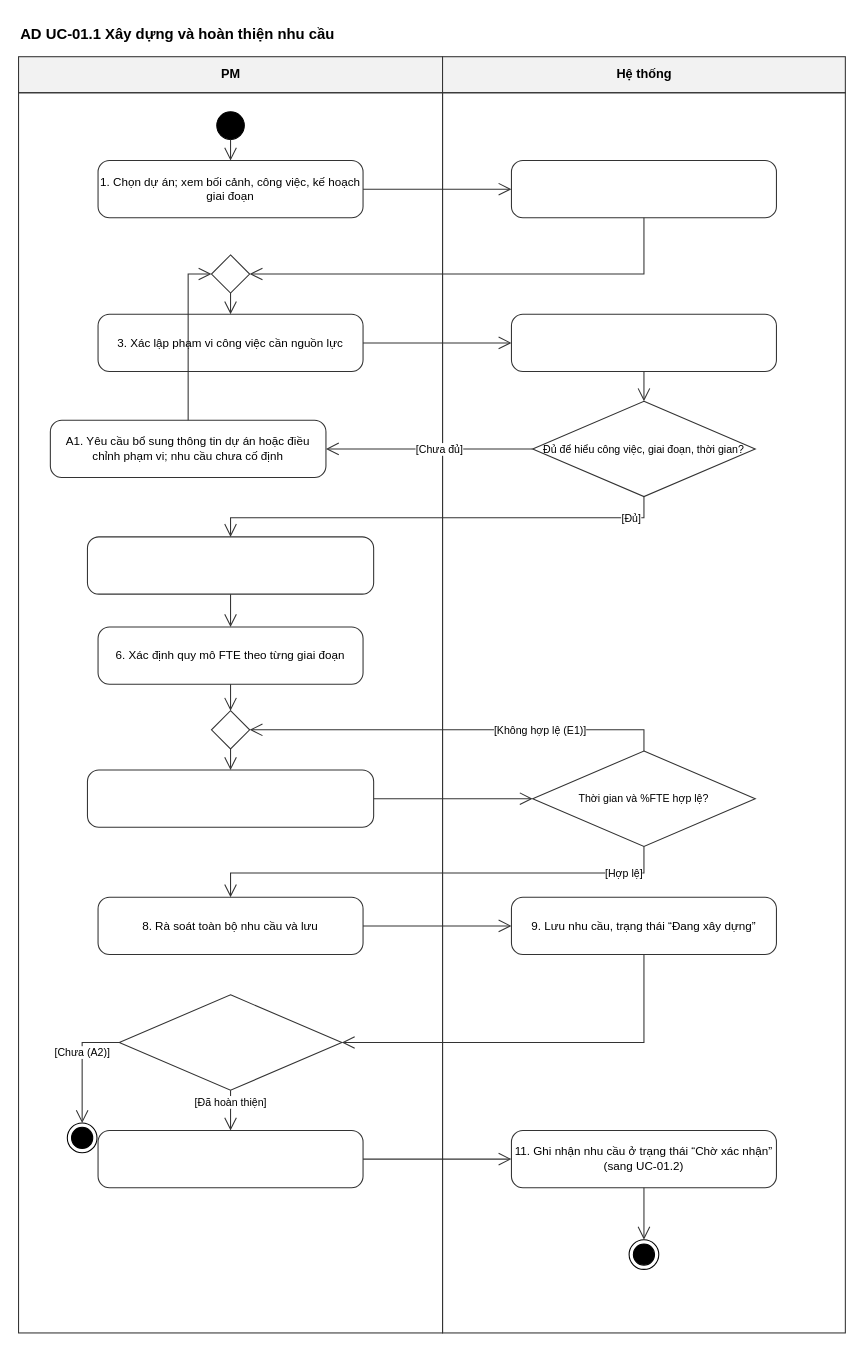
Image size: 864x1351. Some labels were removed from this diagram. Each missing label, with the box of its shape:
10. Chuyển nhu cầu đã hoàn thiện cho RM xem xét: (97, 1129, 363, 1188)
2. Hiển thị thông tin dự án, công việc và các mốc thời gian: (510, 160, 776, 218)
4. Kiểm tra thông tin dự án và phạm vi: (510, 313, 776, 372)
5. Xác định loại nguồn lực, yêu cầu chuyên môn, kỹ năng cho từng công việc: (86, 536, 374, 594)
7. Xác định thời gian hoặc giai đoạn và mức tham gia %FTE của từng vị trí: (86, 769, 374, 827)
Nhu cầu đã hoàn thiện, chuyển RM?: (118, 994, 342, 1090)
